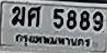letters: (10, 5, 26, 27), (27, 6, 42, 28), (52, 8, 65, 31), (92, 10, 104, 33), (66, 9, 78, 31), (79, 10, 91, 32)
province: (14, 33, 92, 49)
